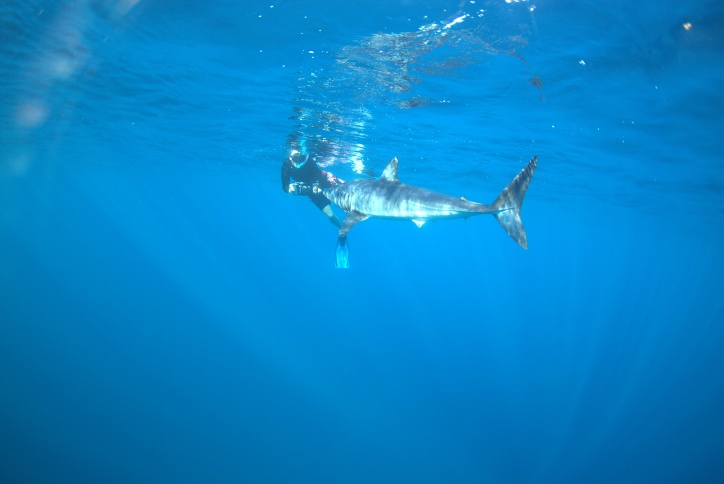Mako: (306, 152, 543, 254)
